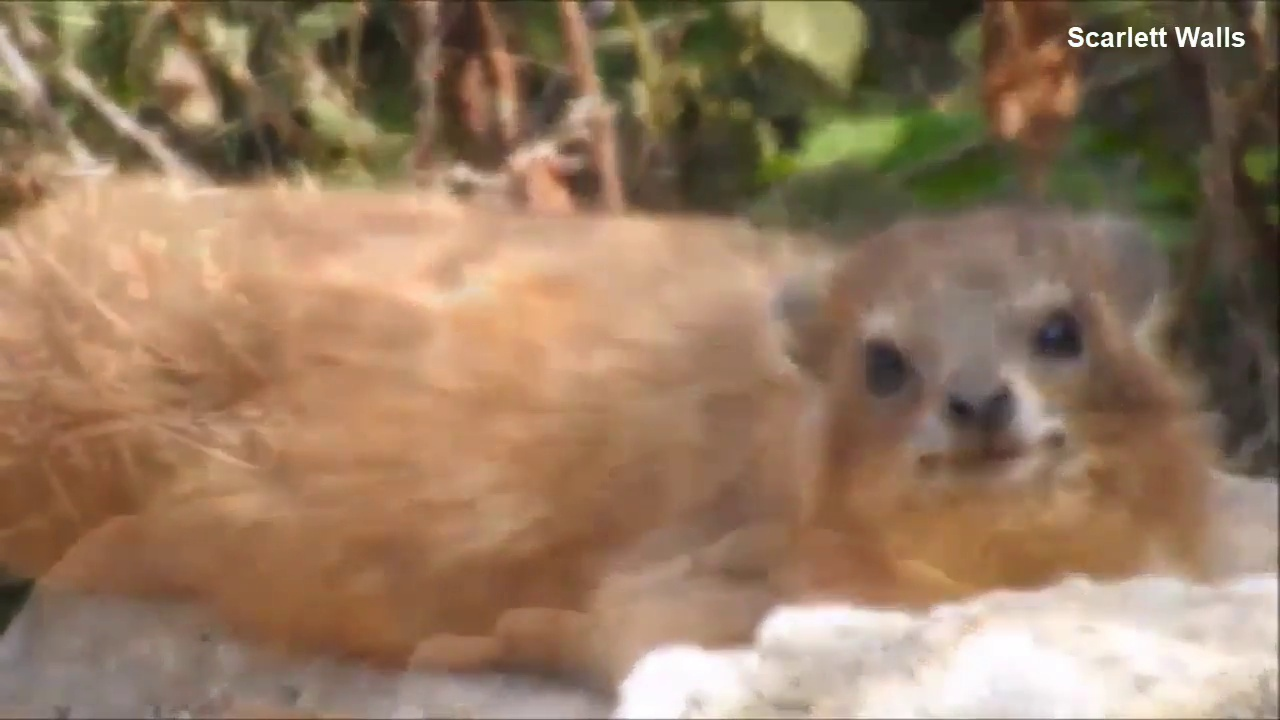Rock Hyrex: (1, 168, 1225, 685)
